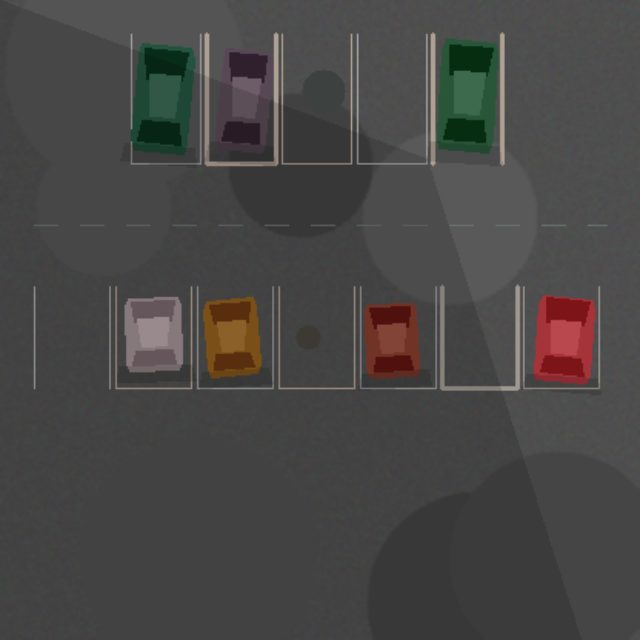space-empty: (282, 34, 351, 163), (357, 34, 426, 163), (278, 286, 354, 388), (34, 286, 109, 388), (442, 286, 517, 388)
space-occupied: (432, 34, 502, 163), (131, 34, 200, 163), (206, 34, 275, 163), (115, 286, 191, 388), (197, 286, 272, 388), (360, 286, 435, 388), (523, 286, 598, 388)
